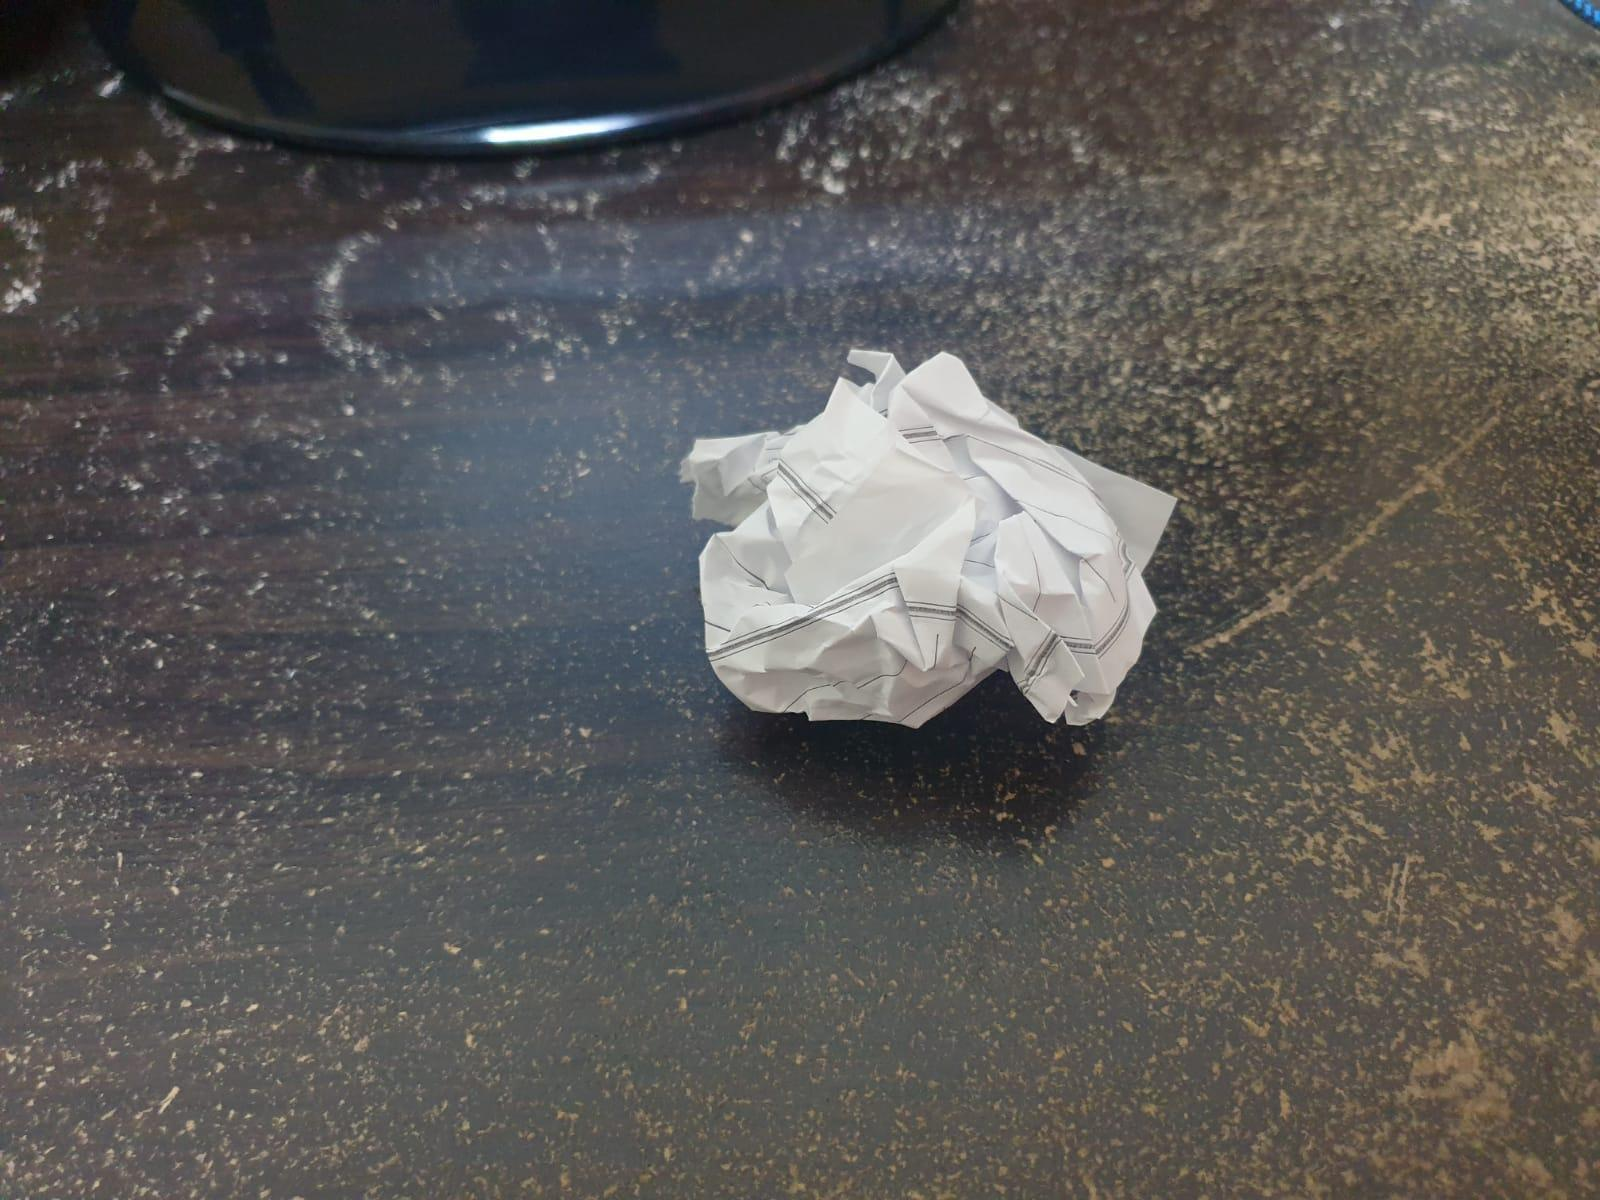Paper: (668, 331, 1186, 753)
